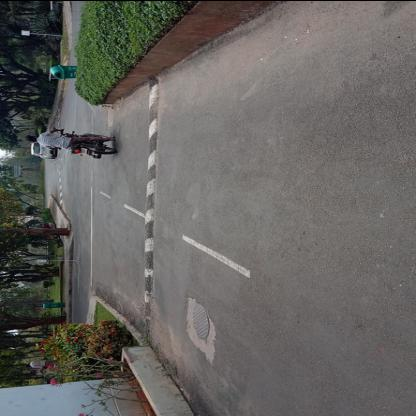speed-bumps: (140, 77, 162, 342)
